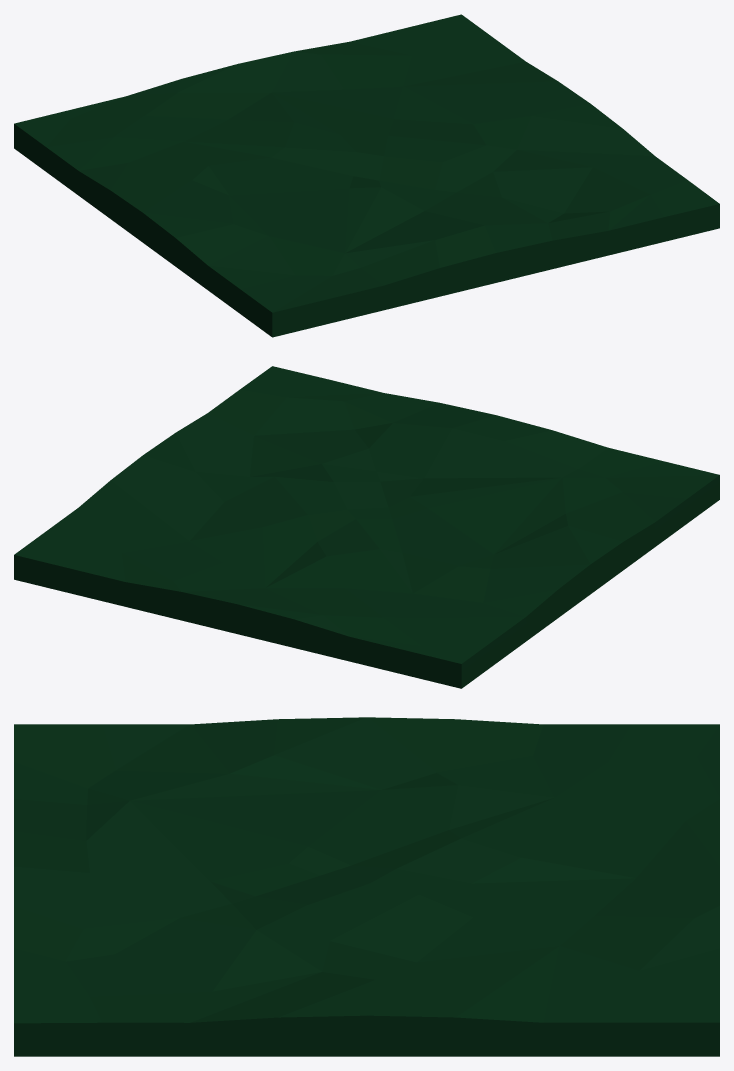
File: Grass.FBX
3 renders of one model, top to bottom at view 1: azimuth 30°, elevation 25°; view 2: azimuth 150°, elevation 25°; view 3: azimuth 270°, elevation 25°, orthographic. The views are drawn at different scales.
Visible parts, largest first — view 1: Grass; view 2: Grass; view 3: Grass.
Part boxes in pixels (box(x1,y1,x2,y2)): Grass: box(14, 14, 719, 337); Grass: box(14, 366, 719, 688); Grass: box(14, 717, 719, 1056).
Bounding box in the file's own units: 1.5 × 0.1065 × 1.5.
1 material, 1 textured.
